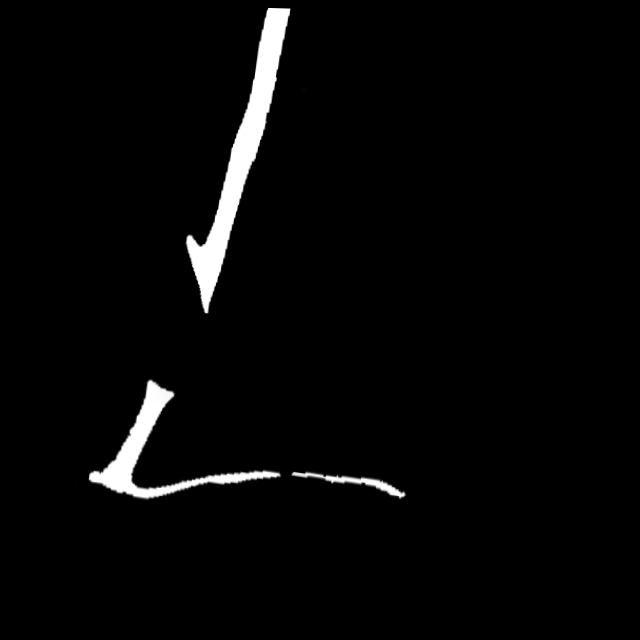sup: (273, 461, 302, 487)
